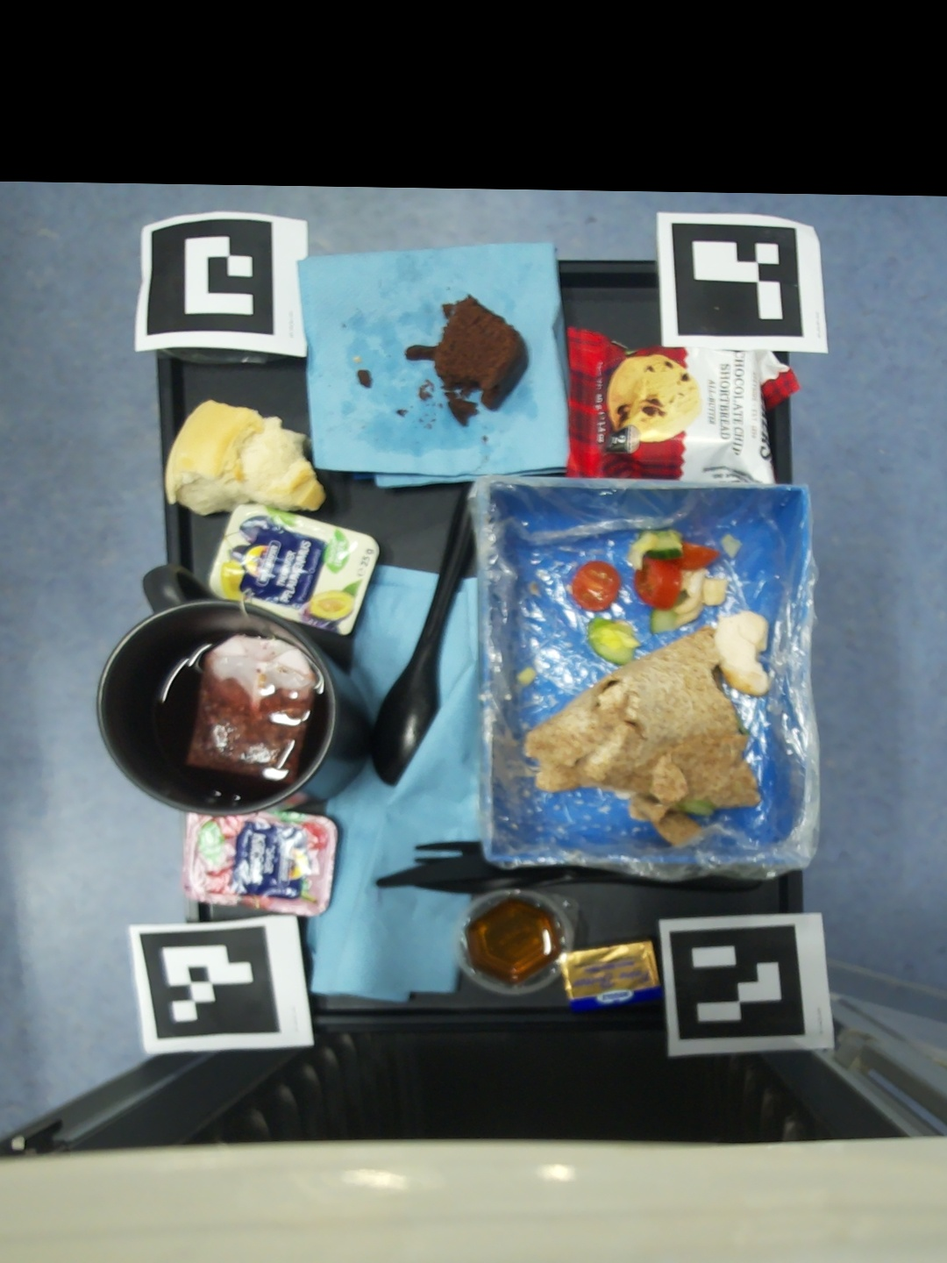bread_roll: (165, 399, 326, 516)
brownie: (406, 297, 528, 426), (419, 379, 434, 400), (358, 370, 370, 387), (397, 410, 408, 417)
butter: (562, 940, 661, 1012)
cherry_jam: (184, 811, 338, 917)
cookie: (565, 326, 800, 482)
honey: (454, 890, 579, 996)
plum_jam: (210, 503, 380, 635)
tea_cup: (97, 565, 369, 816)
wrap_half_1: (524, 609, 771, 848), (627, 529, 728, 633), (572, 561, 620, 611), (720, 534, 743, 558), (517, 667, 536, 686), (529, 581, 540, 595)
